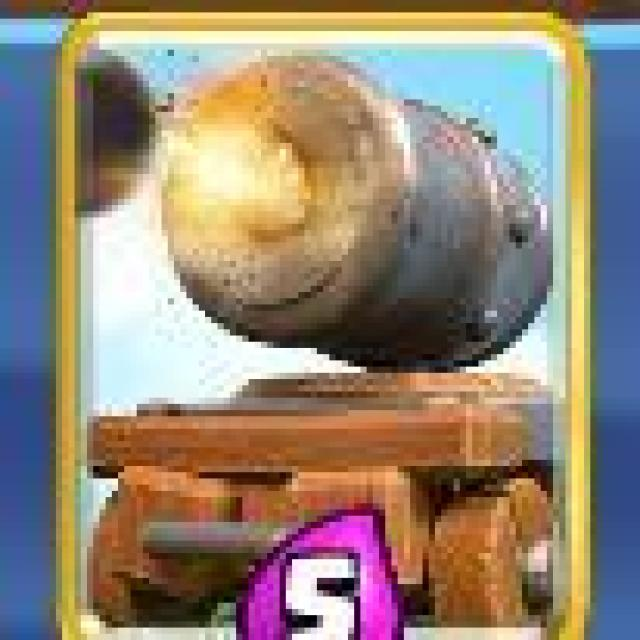Cannon_Cart: (53, 8, 588, 640)
